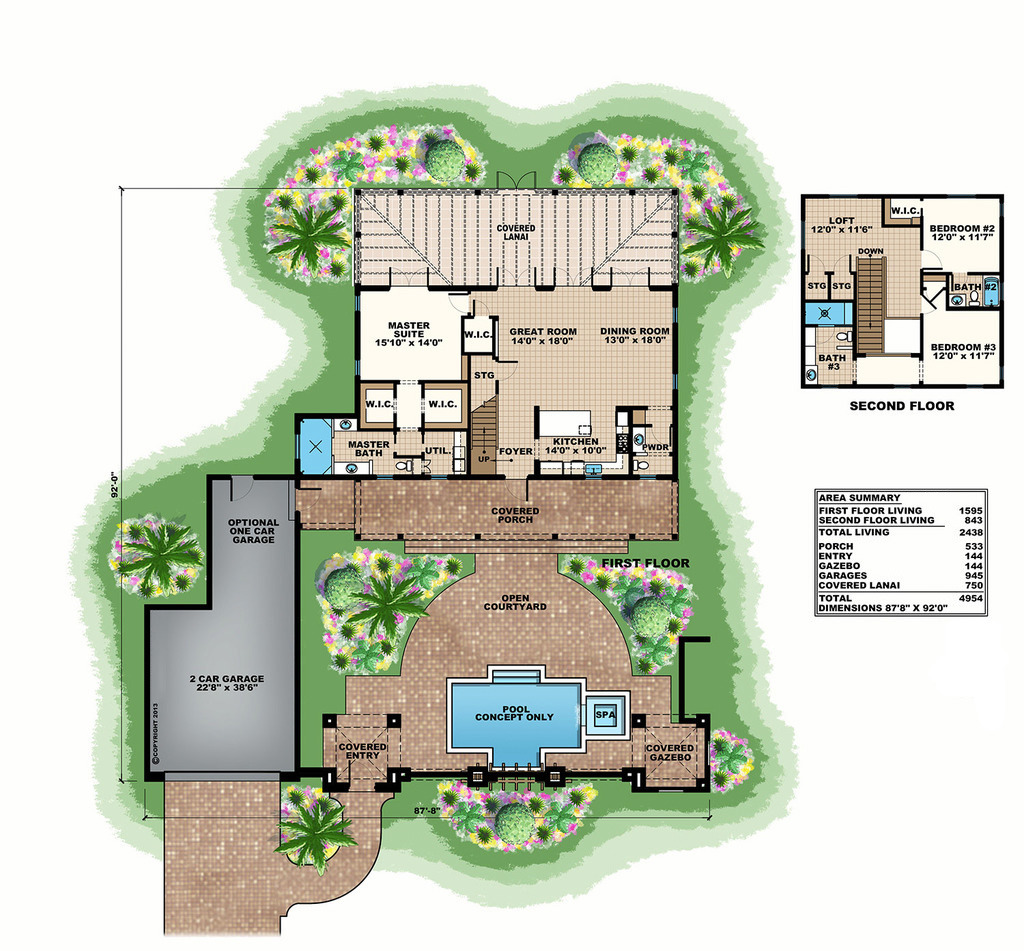door: (447, 288, 475, 313)
small_sink: (625, 424, 651, 451), (327, 462, 370, 476), (332, 420, 356, 430)
stairs: (845, 253, 885, 355), (467, 391, 499, 474)
